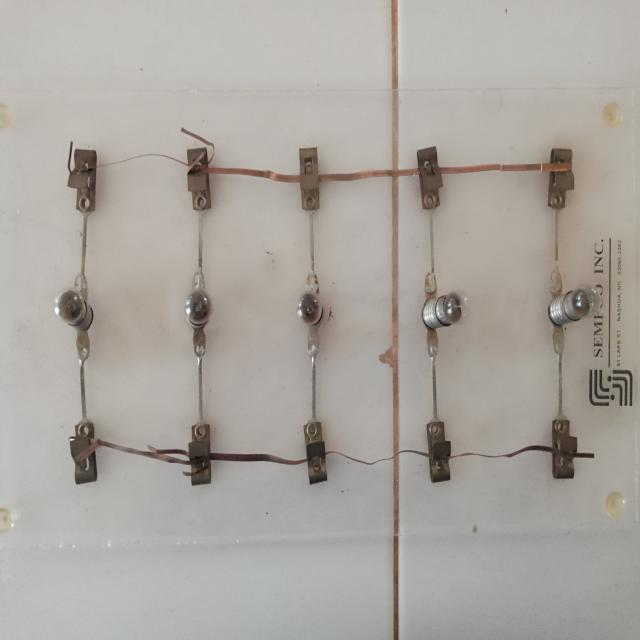Set of Resistors and Bulbs: (47, 124, 594, 502)
